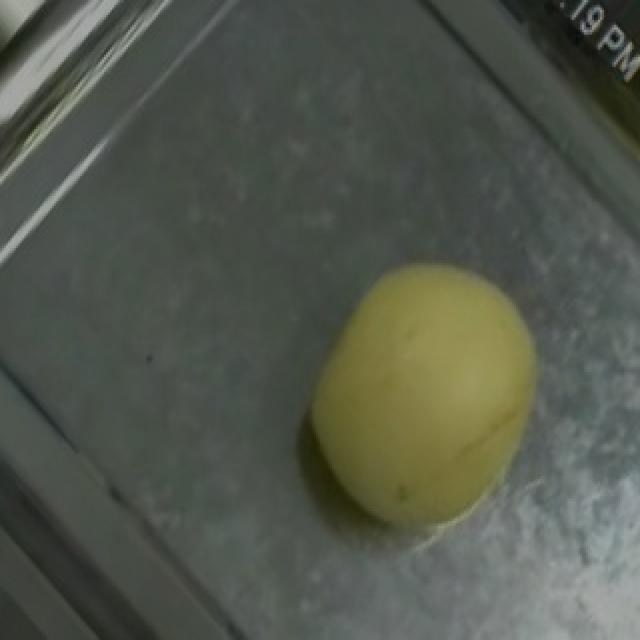Fruit: (264, 218, 584, 576)
